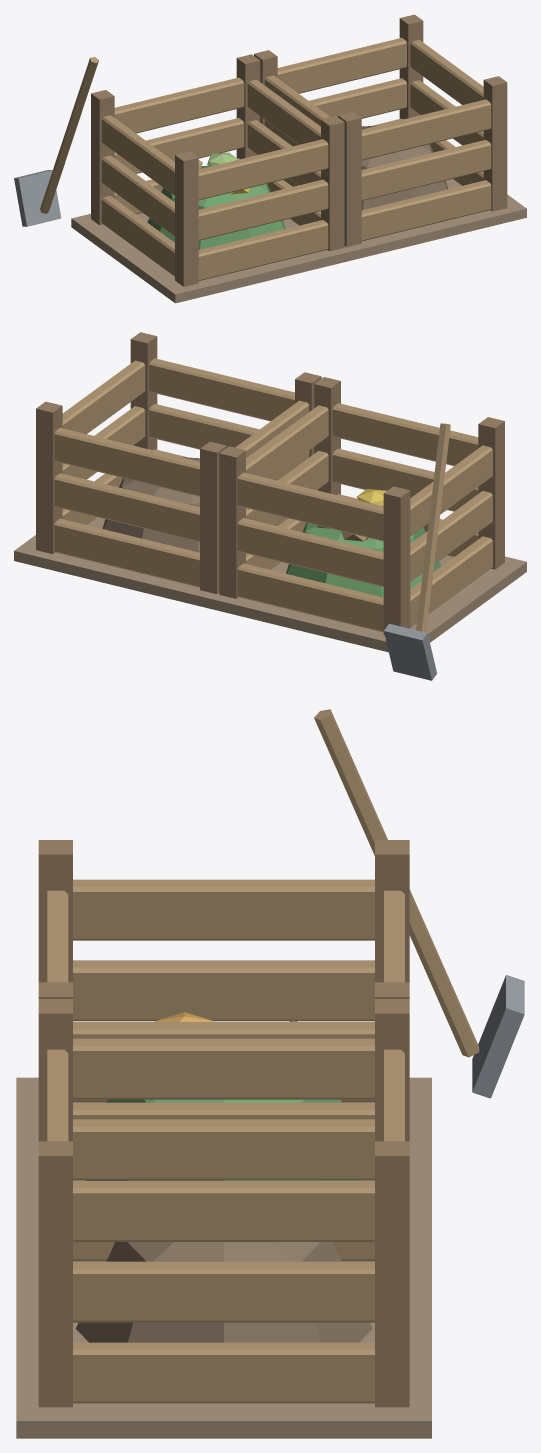
File: vegetacao__composteira.glb
3 views of the same model, one above another, from view 1: azimuth 30°, elevation 25°; view 2: azimuth 150°, elevation 25°; view 3: azimuth 270°, elevation 25° (orthographic). The views are drawn at different scales.
Visible parts, largest first — view 1: vegetacao__composteira; view 2: vegetacao__composteira; view 3: vegetacao__composteira.
Part boxes in pixels (bbox=[...]): vegetacao__composteira: bbox=[14, 14, 526, 303]; vegetacao__composteira: bbox=[14, 332, 526, 680]; vegetacao__composteira: bbox=[16, 709, 524, 1438].
Bounding box in the file's own units: 0.9 × 0.4267 × 0.5136.
